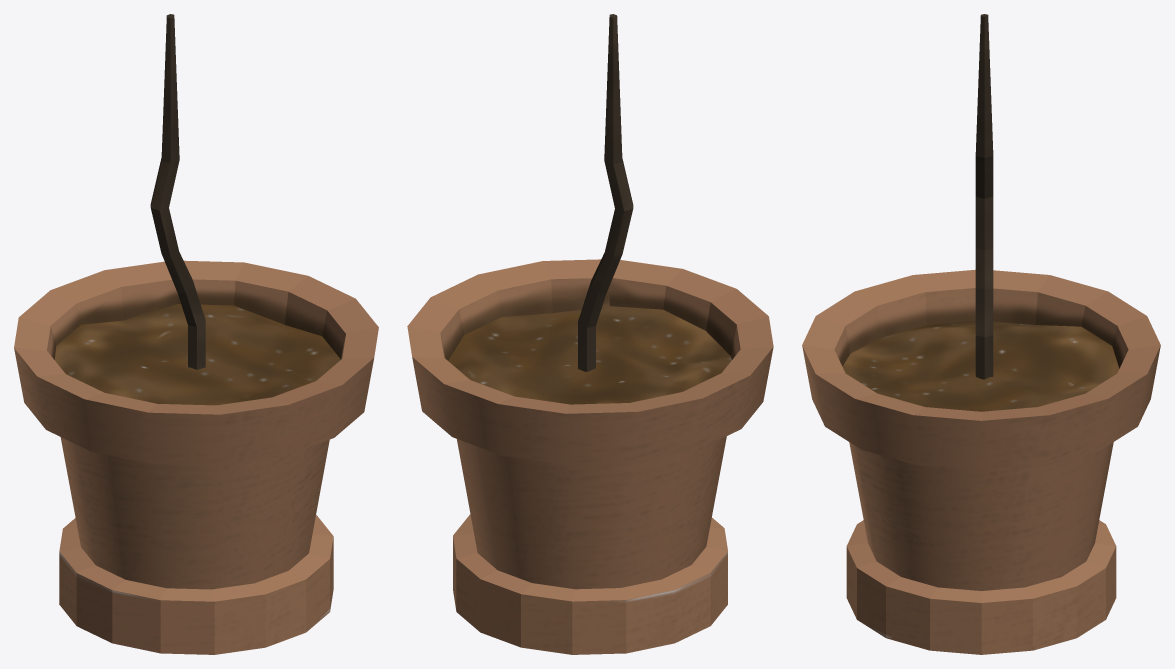
The model's file is PlantPot_Model.fbx.
The picture shows the model from 3 angles, left to right: view 1: azimuth 30°, elevation 25°; view 2: azimuth 150°, elevation 25°; view 3: azimuth 270°, elevation 25°; orthographic projection. The views are drawn at different scales.
Parts seen in each view (by area): view 1: pCylinder10; view 2: pCylinder10; view 3: pCylinder10.
Boxes of the visible parts, left/top/right/bottom form: pCylinder10: left=14, top=14, right=378, bottom=654; pCylinder10: left=407, top=14, right=773, bottom=654; pCylinder10: left=802, top=14, right=1160, bottom=654.
Bounding box in the file's own units: 0.0635 × 0.1115 × 0.0635.
